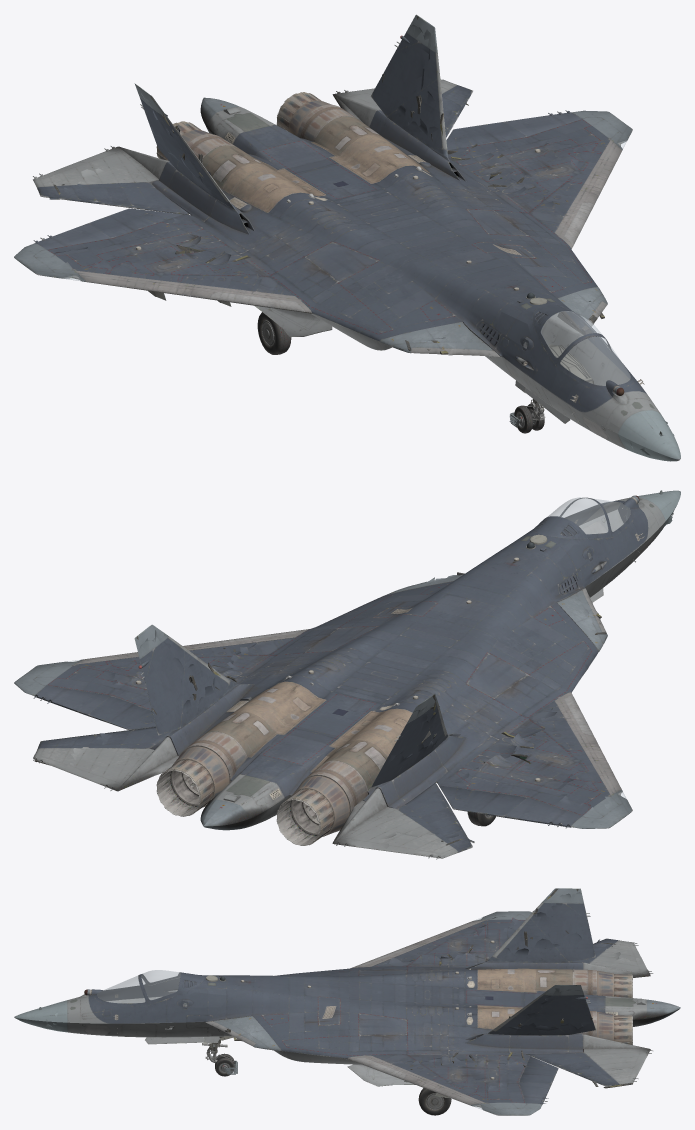
The model's file is VEH_SU57.glb.
3 views of the same model, one above another, from view 1: azimuth 30°, elevation 25°; view 2: azimuth 150°, elevation 25°; view 3: azimuth 270°, elevation 25° (orthographic). The views are drawn at different scales.
Visible parts, largest first — view 1: ob_veh_airplane_su57_base_s0, ob_veh_airplane_su57_base_s1, ob_veh_airplane_su57_base_s4, ob_veh_airplane_su57_base_s3, ob_veh_airplane_su57_base_s2; view 2: ob_veh_airplane_su57_base_s0, ob_veh_airplane_su57_base_s1, ob_veh_airplane_su57_base_s4, ob_veh_airplane_su57_base_s3; view 3: ob_veh_airplane_su57_base_s0, ob_veh_airplane_su57_base_s1, ob_veh_airplane_su57_base_s4, ob_veh_airplane_su57_base_s3.
Boxes of the visible parts, x1,y1,x2,y2 form: ob_veh_airplane_su57_base_s0: [14, 78, 680, 459]; ob_veh_airplane_su57_base_s1: [14, 14, 679, 461]; ob_veh_airplane_su57_base_s4: [63, 140, 630, 385]; ob_veh_airplane_su57_base_s3: [53, 16, 604, 354]; ob_veh_airplane_su57_base_s2: [148, 291, 593, 383]; ob_veh_airplane_su57_base_s0: [14, 490, 680, 859]; ob_veh_airplane_su57_base_s1: [15, 503, 677, 858]; ob_veh_airplane_su57_base_s4: [67, 497, 630, 798]; ob_veh_airplane_su57_base_s3: [34, 508, 622, 845]; ob_veh_airplane_su57_base_s0: [14, 911, 680, 1115]; ob_veh_airplane_su57_base_s1: [15, 888, 679, 1115]; ob_veh_airplane_su57_base_s4: [97, 917, 482, 1109]; ob_veh_airplane_su57_base_s3: [224, 888, 632, 1088].
Size of the model in its own units: 14.17 by 4.61 by 19.61.
Materials: 6 (5 with a texture image).
